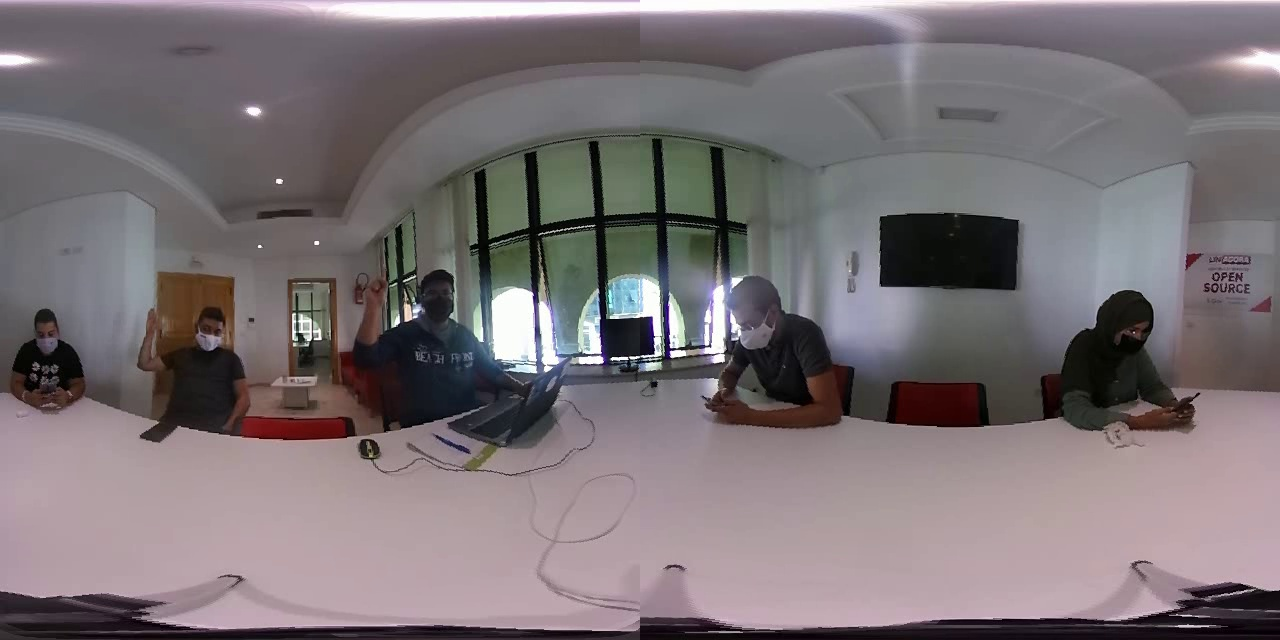person: (673, 266, 854, 450), (1043, 271, 1202, 445), (345, 259, 499, 425), (120, 292, 267, 448), (7, 299, 93, 419)
speaking: (346, 259, 399, 366), (133, 294, 166, 387)
